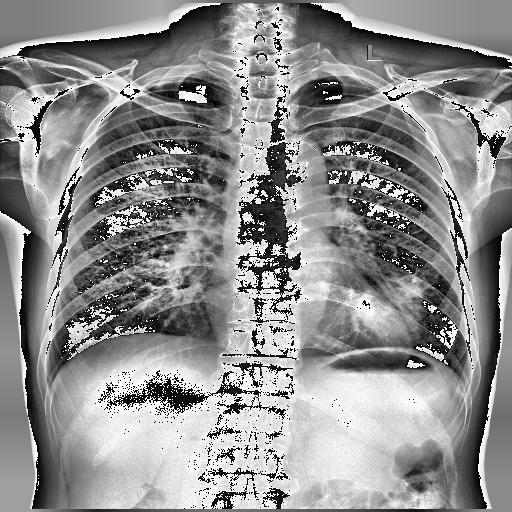0- Aortic enlargement: (269, 137, 327, 181)
11- Pleural thickening: (138, 76, 200, 89), (350, 76, 382, 94)
7- Lung Opacity: (350, 276, 425, 339)
8- Nodule-Mass: (350, 276, 425, 339), (358, 278, 422, 340), (356, 278, 422, 338)
